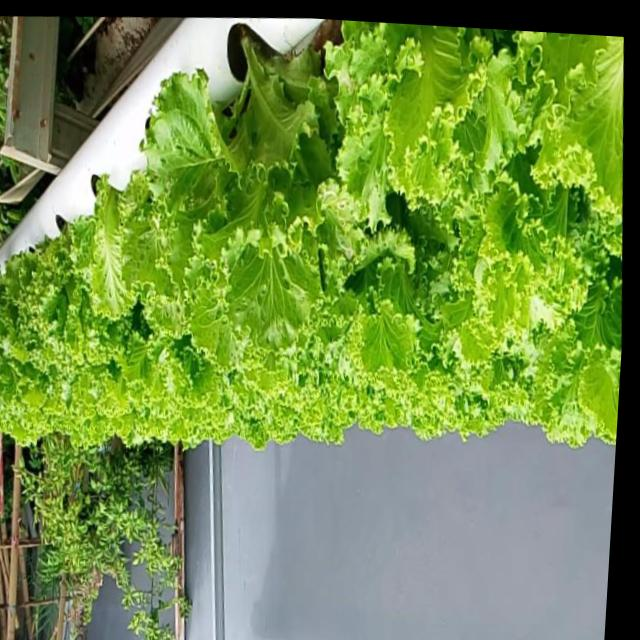Mature: (0, 20, 623, 449), (141, 24, 362, 356), (18, 207, 125, 371)
